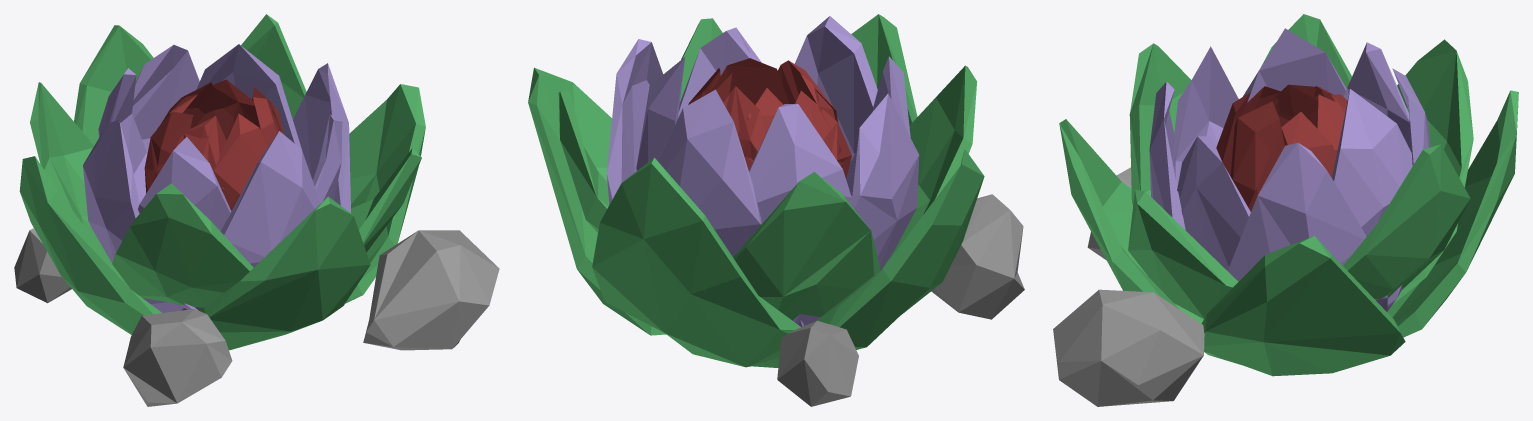
File: plant2.FBX
3 views of the same model, side by side, from view 1: azimuth 30°, elevation 25°; view 2: azimuth 150°, elevation 25°; view 3: azimuth 270°, elevation 25° (orthographic). The views are drawn at different scales.
Visible parts, largest first — view 1: Box031; view 2: Box031; view 3: Box031.
Part boxes in pixels (x1,y1,x2,y2): Box031: [14, 14, 499, 406]; Box031: [528, 14, 1024, 406]; Box031: [1053, 14, 1518, 406].
Size of the model in its own units: 157 by 100 by 150.
